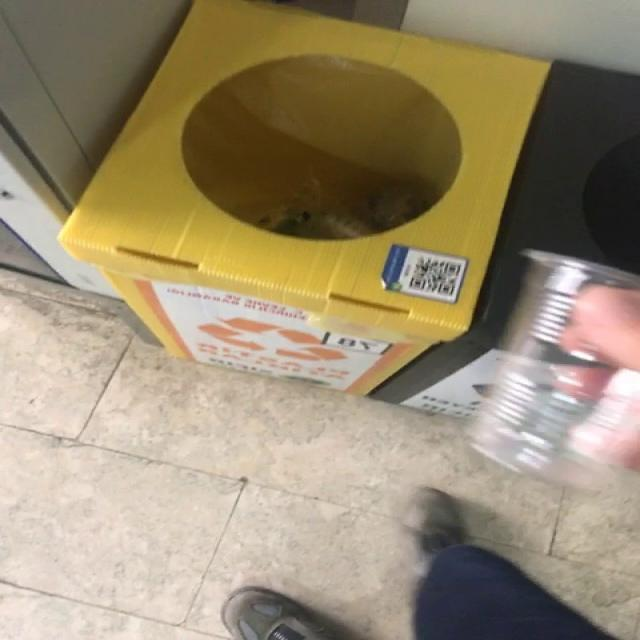Plastic: (471, 250, 640, 486)
